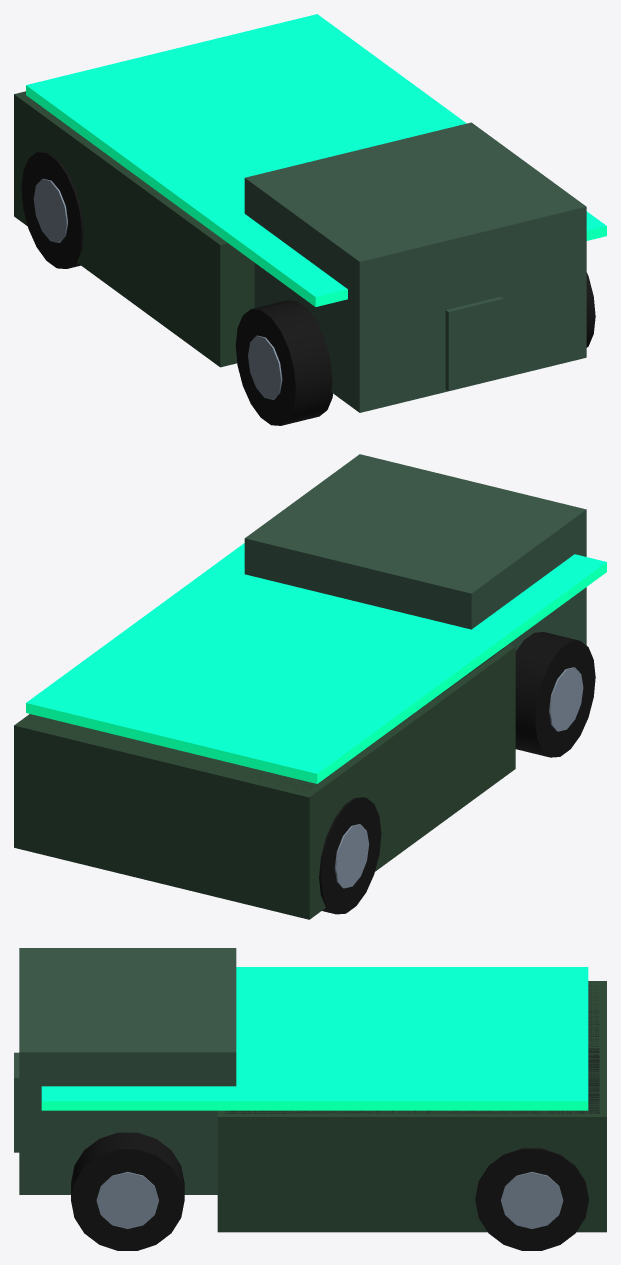
Rendered from threshold_child_hauler.glb.
3 views of the same model, one above another, from view 1: azimuth 30°, elevation 25°; view 2: azimuth 150°, elevation 25°; view 3: azimuth 270°, elevation 25° (orthographic). The views are drawn at different scales.
Visible parts, largest first — view 1: Threshold Hauler; view 2: Threshold Hauler; view 3: Threshold Hauler.
Part boxes in pixels (x1,y1,x2,y2): Threshold Hauler: [14, 14, 606, 425]; Threshold Hauler: [14, 454, 606, 919]; Threshold Hauler: [14, 948, 606, 1250].
Size of the model in its own units: 2.2 by 1.34 by 3.96.
